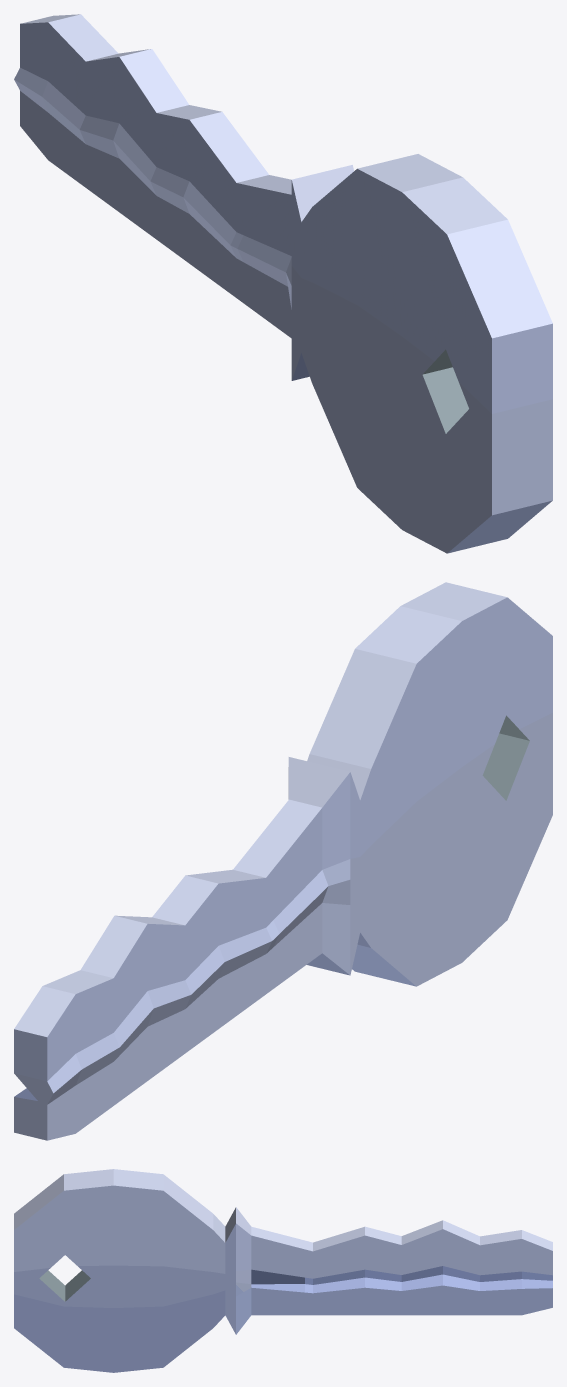
File: Key.fbx
The picture shows the model from 3 angles, top to bottom: view 1: azimuth 30°, elevation 25°; view 2: azimuth 150°, elevation 25°; view 3: azimuth 270°, elevation 25°; orthographic projection. The views are drawn at different scales.
Visible parts, largest first — view 1: pCube11; view 2: pCube11; view 3: pCube11.
Part boxes in pixels (x1,y1,x2,y2): pCube11: [14, 14, 552, 553]; pCube11: [14, 582, 552, 1140]; pCube11: [14, 1169, 552, 1372].
Size of the model in its own units: 0.2036 by 1.08 by 2.81.
2 materials, 1 textured.
